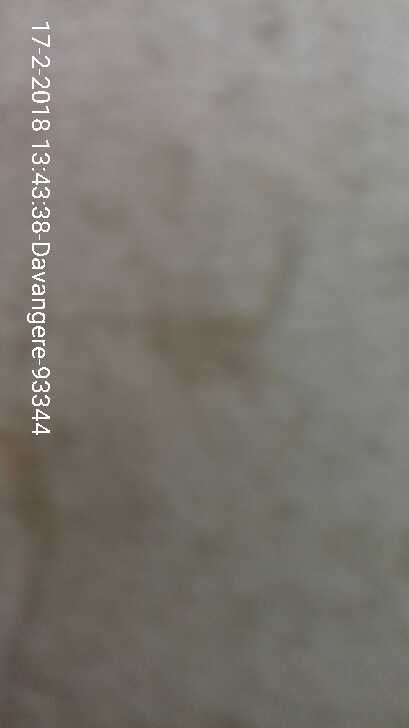reject: (150, 197, 229, 289)
